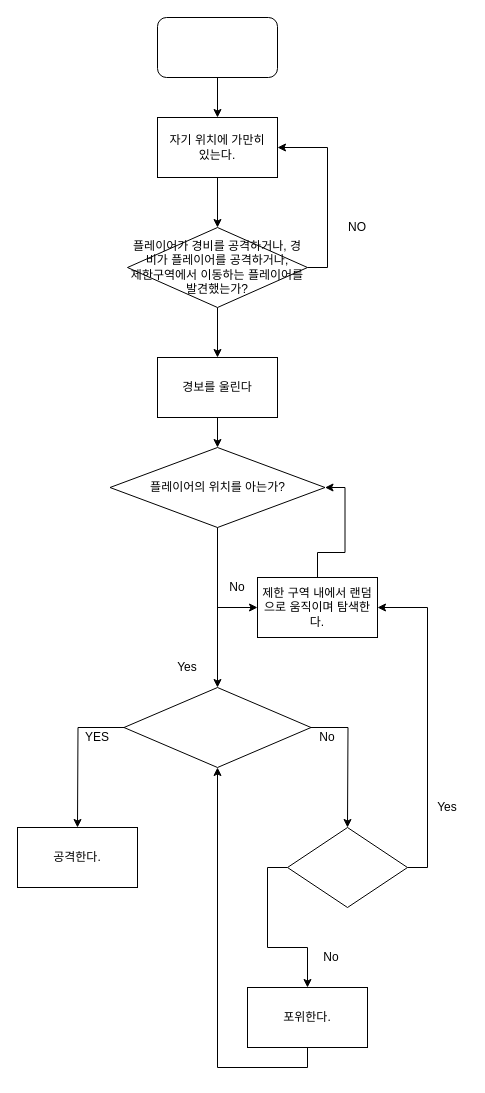
Image size: 485x1093. Some labels were removed from this diagram. The shapes that lost their labels are listed below. From the top down, each one's box as (x1, y1, x2, y2) in pixels, then its label:
(156, 16, 278, 78): AI들
(123, 686, 311, 768): 플레이어와 같은 방에 있는가?
(286, 826, 408, 908): 위치를 놓쳤는가?
